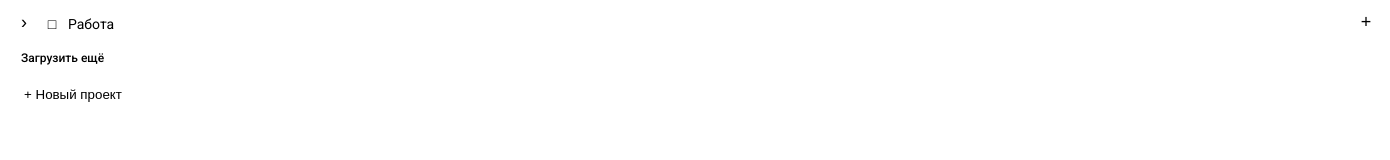
NavigationTree › FE-09: догружает корневую страницу без дубликатов
Check: the link "Работа" is shown, box [68,16,114,32]
Click the button "Загрузить ещё".
click(63, 58)  # box [12,47,113,69]
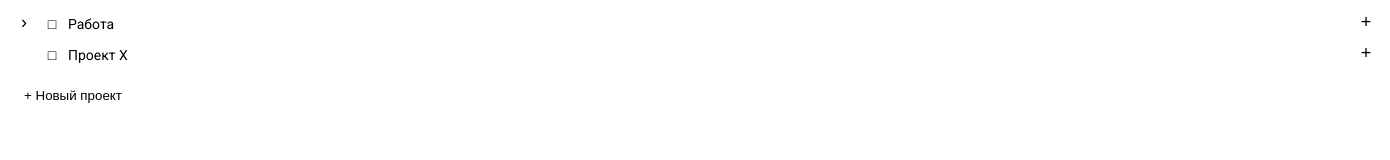
Check: the link "Проект X" is shown, box [68,47,128,63]
Check: the number of links "Работа" is 1, box [68,16,114,32]
